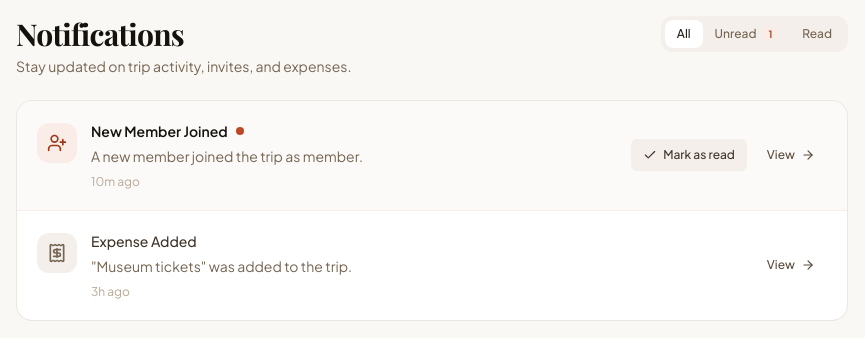
it: NotificationsPage › filters notifications by Unread and Read tabs
This screenshot has width=865, height=338.
Check: the heading "New Member Joined" is shown, box [91,121,228,141]
Switch to Unread tab
What coordinates should you click on to do the following:
click the button "Unread 1"
I would click on:
 (746, 34)
Its box is [703,20,790,48].
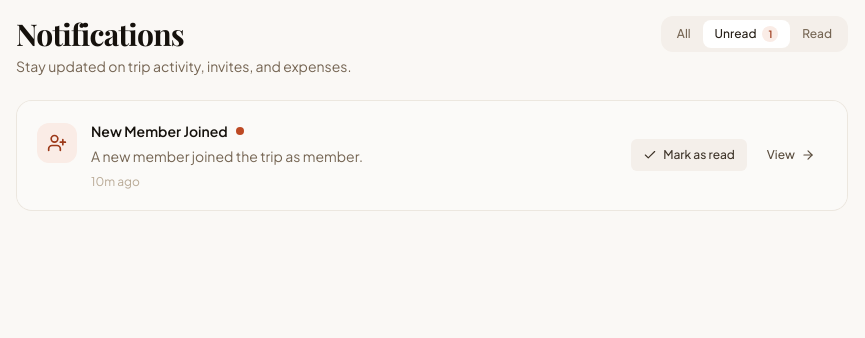
Check: the heading "New Member Joined" is shown, box [91,121,228,141]
Check: the text "Museum tickets" is gone
Switch to Read tab
What coordinates should you click on to do the following:
click the button "Read"
I would click on:
 (817, 34)
Its box is [790,20,844,48].
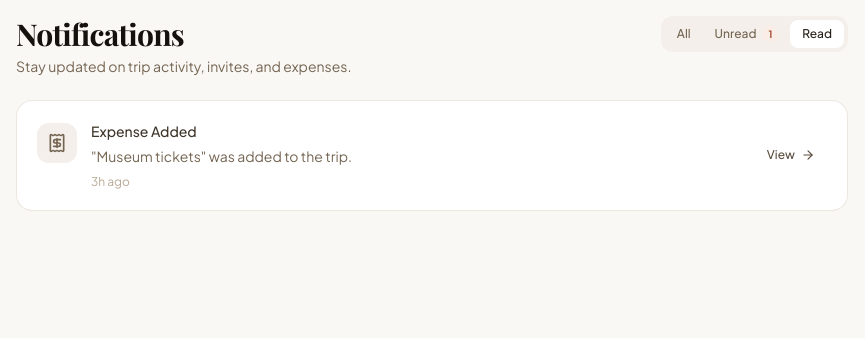
Check: the heading "New Member Joined" is gone
Check: the text "\"Museum tickets\" was added to the trip." is shown, box [91,147,352,165]
